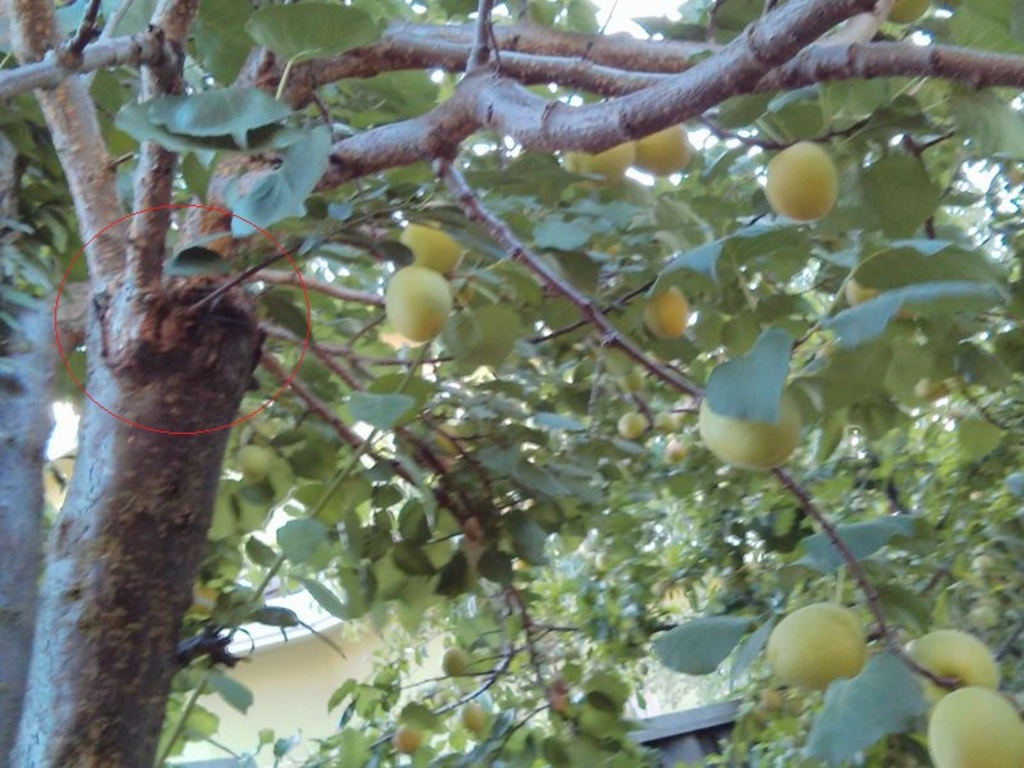Apple: (901, 629, 1002, 733), (376, 248, 464, 354), (765, 601, 865, 686), (925, 683, 1022, 766), (761, 138, 837, 220), (838, 267, 913, 322), (568, 139, 634, 194), (638, 124, 693, 177), (641, 281, 688, 337), (439, 642, 471, 680), (390, 720, 422, 755), (433, 424, 468, 454), (889, 0, 929, 24), (239, 445, 266, 477), (462, 697, 485, 730), (613, 407, 641, 433), (615, 369, 646, 390), (917, 381, 944, 404), (663, 436, 683, 460), (654, 410, 675, 430)
